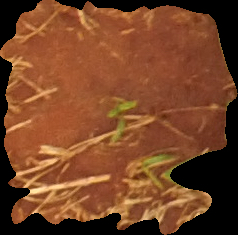soil: (2, 3, 234, 232)
